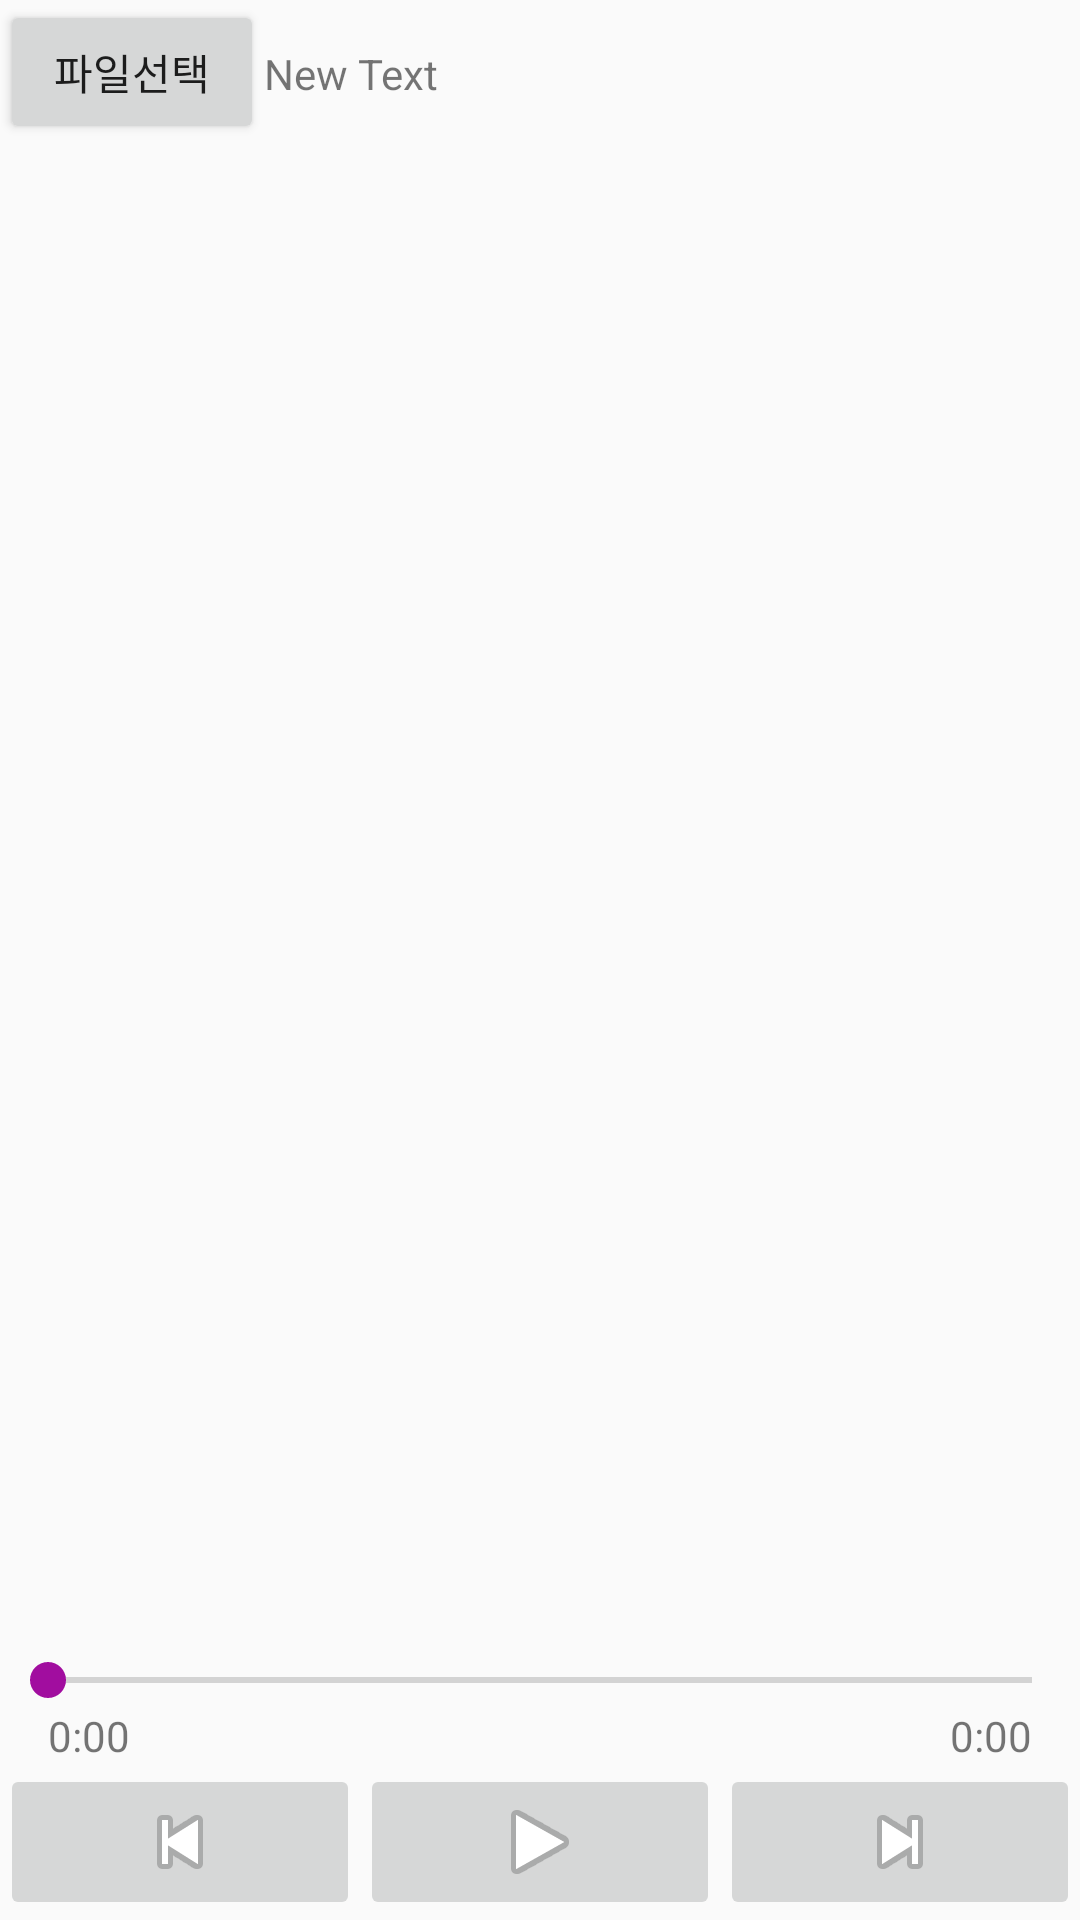

Where icons sit on this 1080×1920 app screen, as (x1, y1, x2, y2):
next: (732, 1782, 1068, 1902)
play: (372, 1782, 708, 1902)
previous: (12, 1782, 348, 1902)
